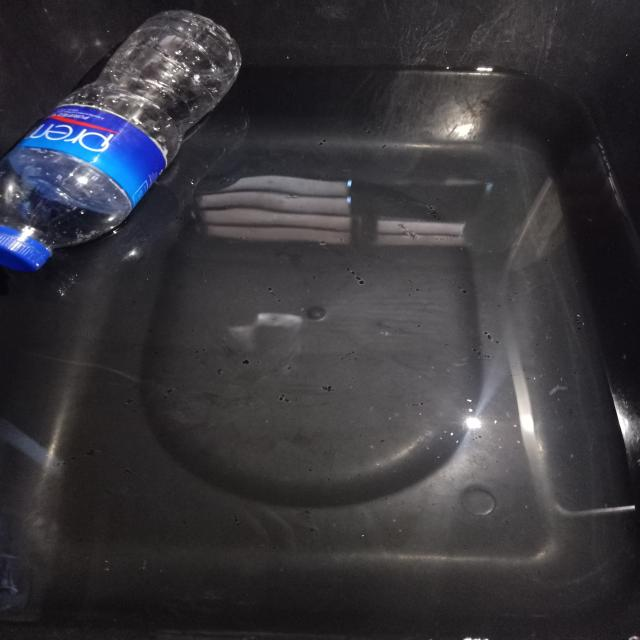Plastic Bottle: (0, 10, 241, 272)
